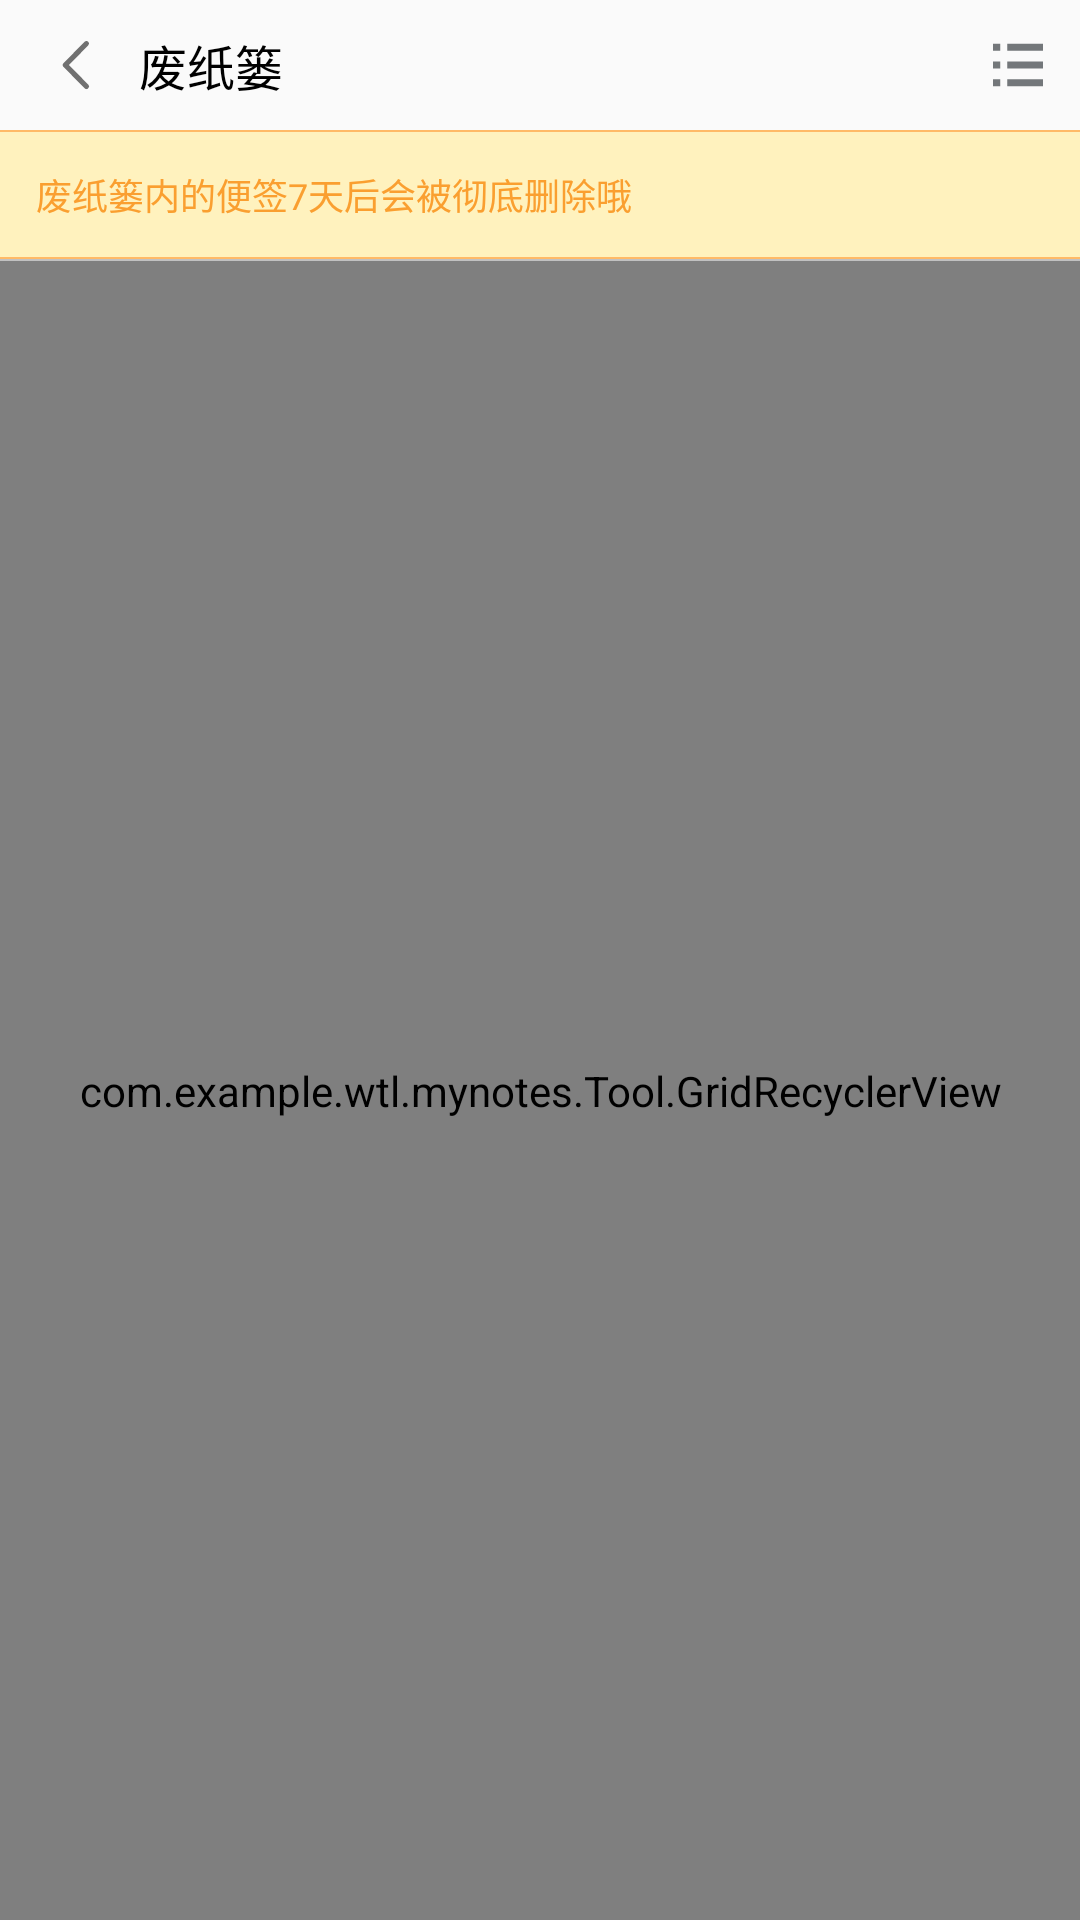

Named icons in this screenshot (1080w x 1920h) and their centers, (x=x, y=y):
listview: (x=1018, y=65)
